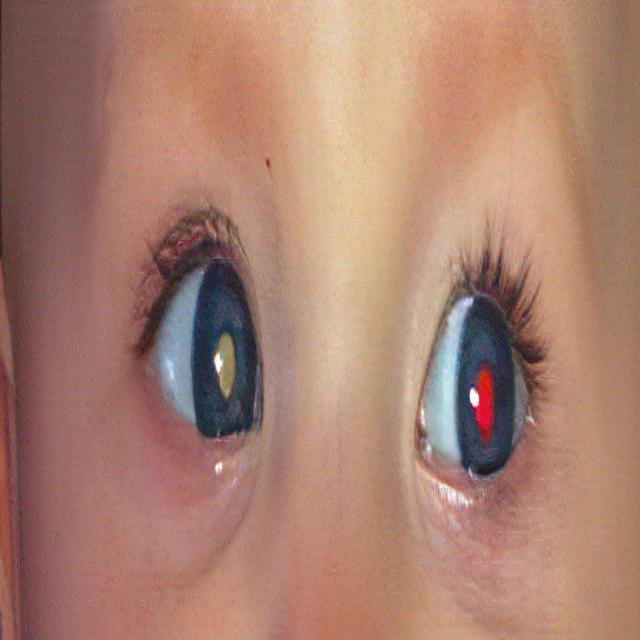reflexo-alterado: (157, 195, 277, 505)
reflexo-normal: (427, 236, 541, 505)
